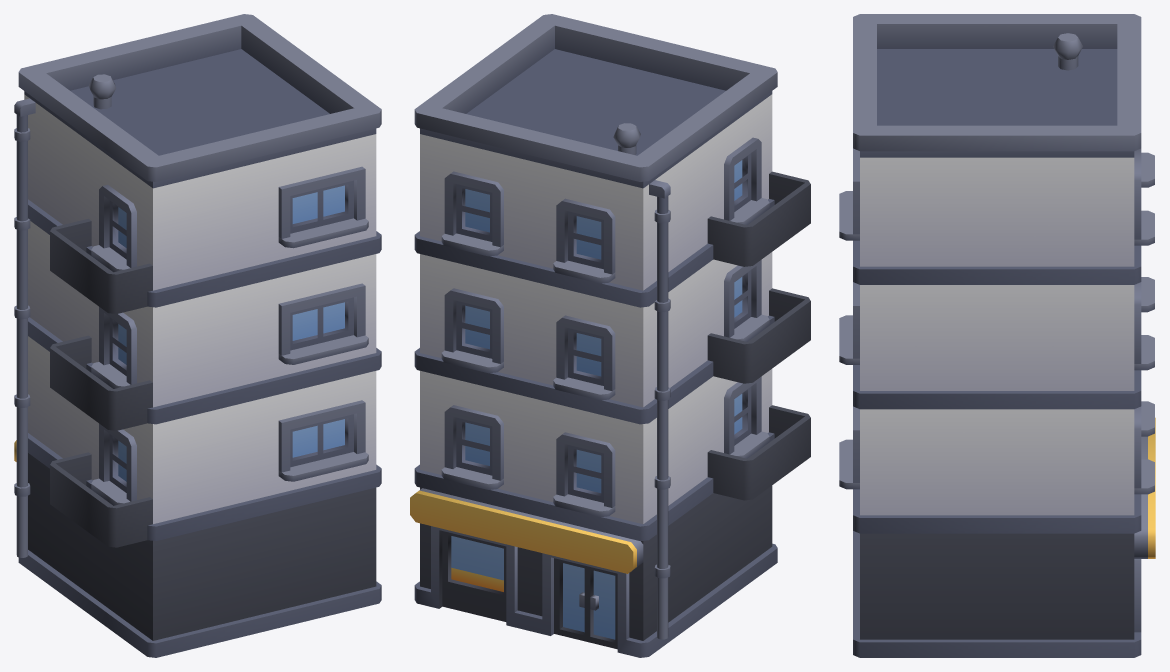
File: building-g.glb
3 views of the same model, side by side, from view 1: azimuth 30°, elevation 25°; view 2: azimuth 150°, elevation 25°; view 3: azimuth 270°, elevation 25° (orthographic). The views are drawn at different scales.
Parts seen in each view (by area): view 1: building-g; view 2: building-g; view 3: building-g.
Boxes of the visible parts, <box> form: building-g: <box>14,14,381,657</box>; building-g: <box>410,14,810,657</box>; building-g: <box>839,14,1155,657</box>.
Size of the model in its own units: 0.97 by 1.69 by 0.9221.
1 material, 1 textured.
